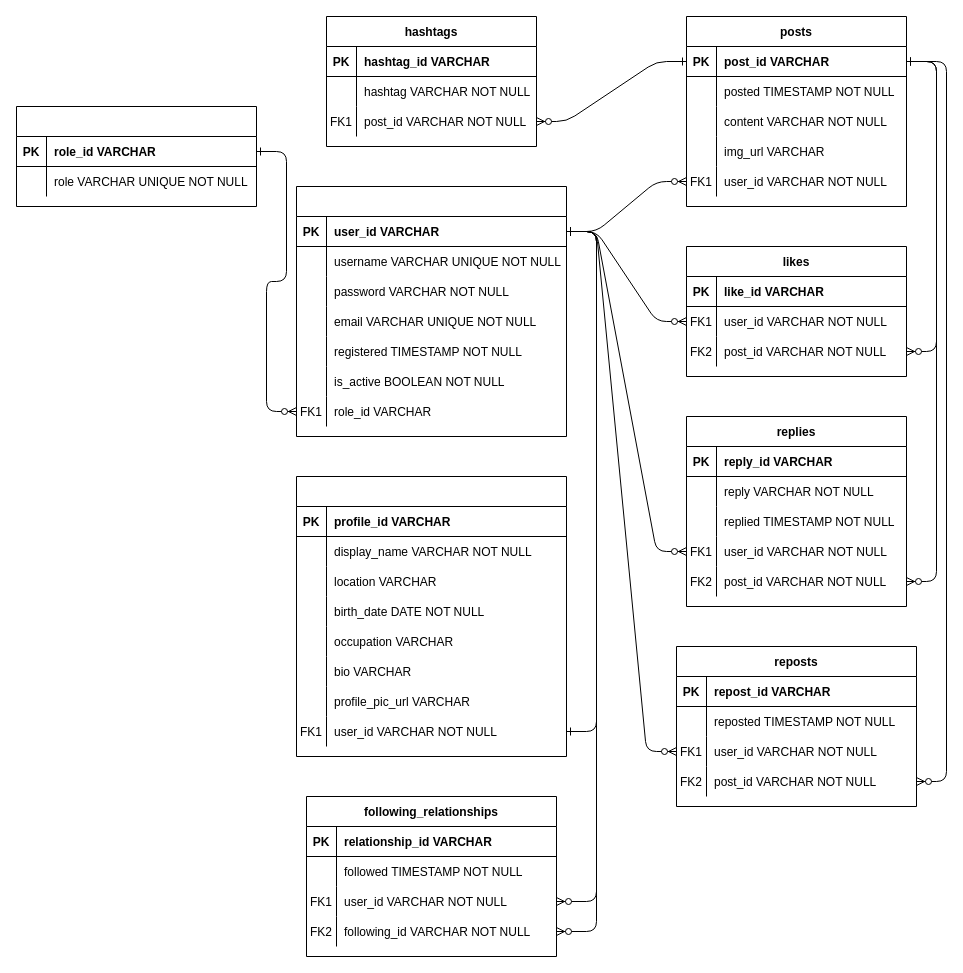
The diagram is 963 pixels wide and 973 high, and some of its shapes have lost their labels. Each missing label, with the box of its shape:
user_profiles: (296, 476, 566, 756)
user_roles: (16, 106, 256, 206)
users: (296, 186, 566, 436)
